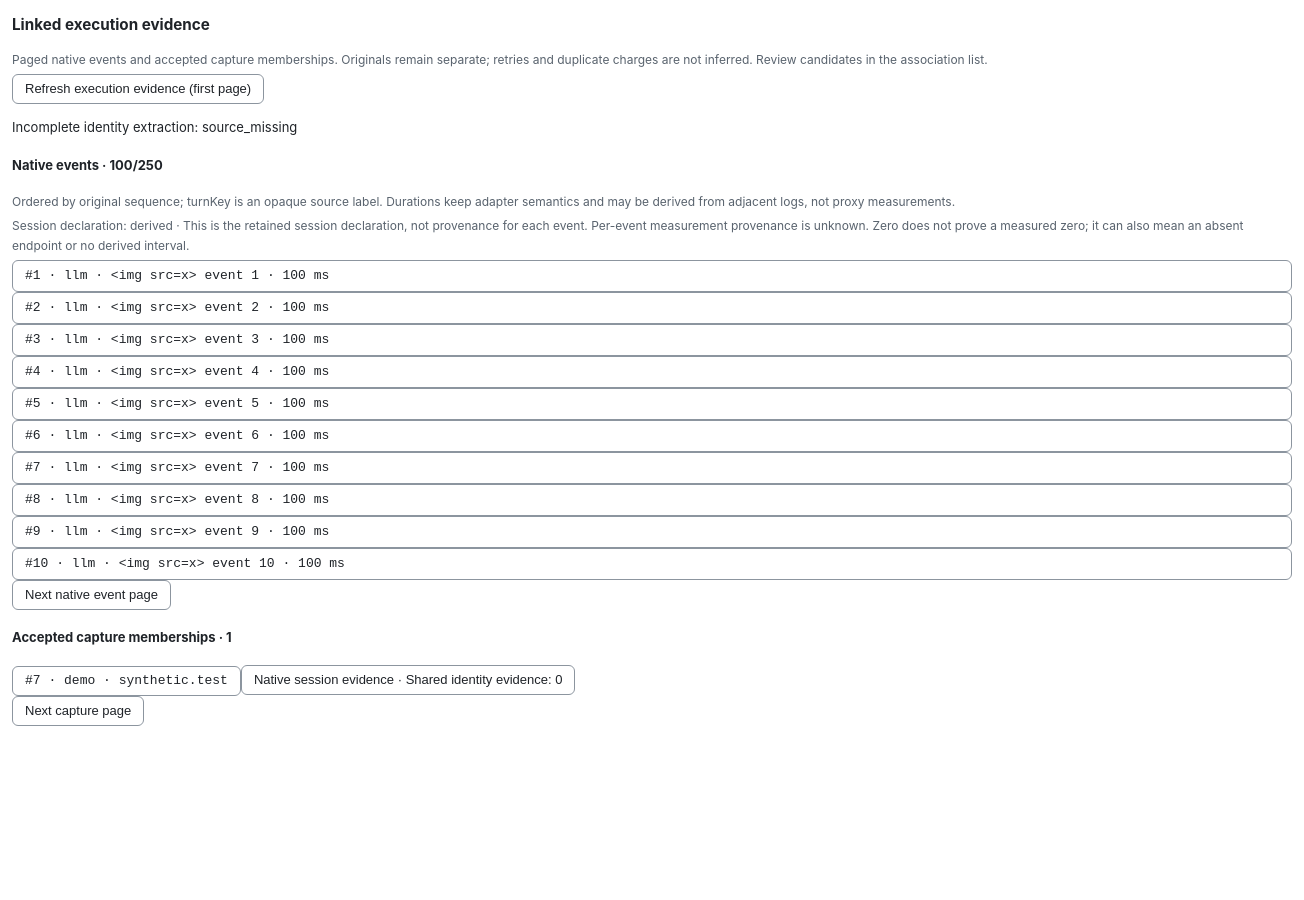
Test: linked execution exploration › shows incomplete/unbound metadata without claiming missing event bindings
What coordinates should you click on to do the following:
click the button "Native session evidence · Shared identity evidence: 0"
I would click on:
 (408, 680)
Its box is [241,664,576,694].
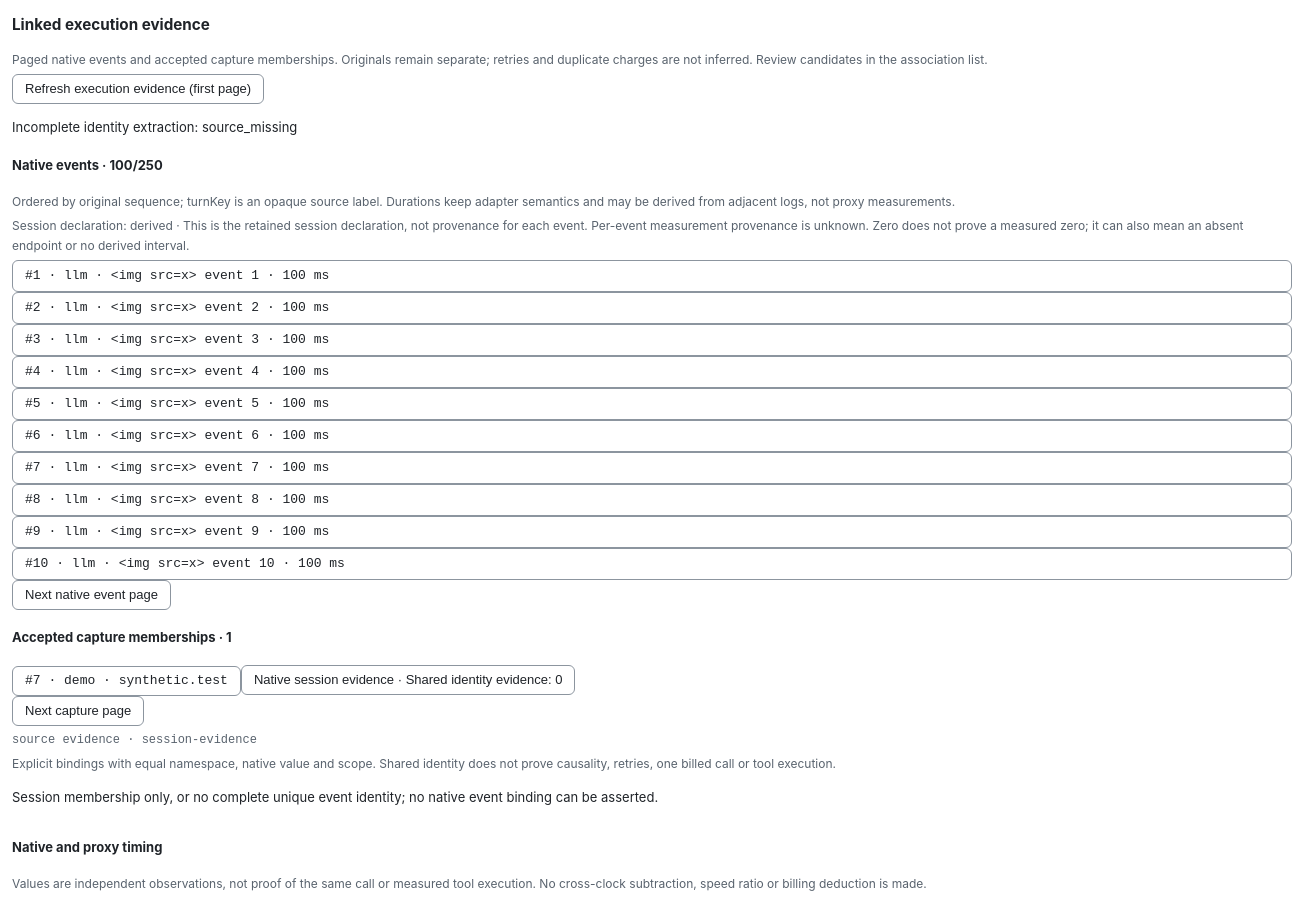
Result: the text "no native event binding can be asserted" is shown at [12,788,658,804]
